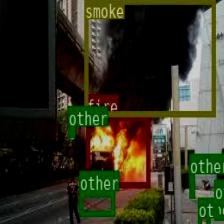fire: (86, 114, 149, 186)
smoke: (83, 0, 214, 115)
